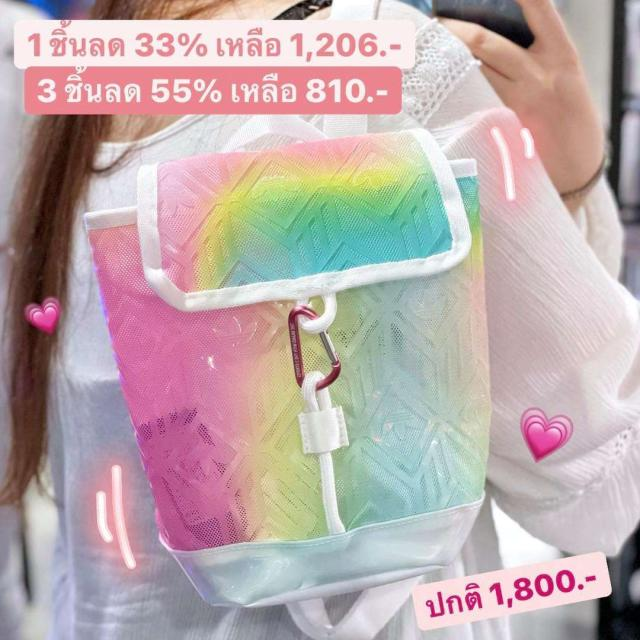Handbag: (82, 129, 488, 613)
